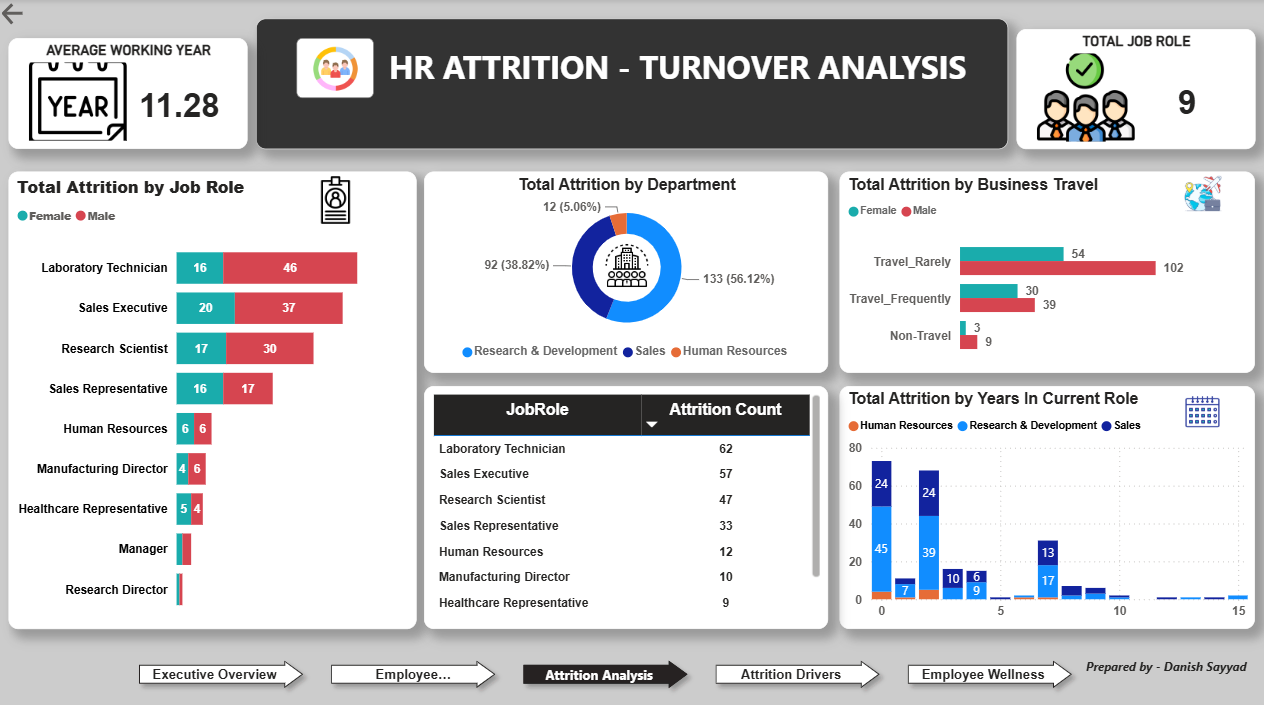

The page's visual inventory and layout, read from the dashboard file:
{"tool":"powerbi","page":{"name":"Attrition Analysis","canvas":[1280,720],"ordinal":2},"visuals":[{"type":"textbox","box":[260.7,19.5,759,132.1],"z":0},{"type":"image","box":[301.3,39.4,77.8,60.5],"z":1000},{"type":"cardVisual","title":"AVERAGE WORKING YEAR","fields":{"Data":["Avg(HR-Employee-Attrition.TotalWorkingYears)"]},"box":[10.6,39.9,241.2,111.7],"z":2000},{"type":"cardVisual","title":"TOTAL JOB ROLE ","fields":{"Data":["Count(HR-Employee-Attrition.JobRole)"]},"box":[1027.7,30.1,241.2,121.5],"z":3000},{"type":"barChart","title":"Total Attrition by Job Role","fields":{"Category":["HR-Employee-Attrition.JobRole"],"Y":["Sum(HR-Employee-Attrition.Attrition Count)"],"Series":["HR-Employee-Attrition.Gender"]},"box":[10.6,174.7,412.3,462],"z":4000},{"type":"image","box":[306.8,172.9,66.5,60.3],"z":5000},{"type":"donutChart","title":"Total Attrition by Department","fields":{"Category":["HR-Employee-Attrition.Department"],"Y":["Sum(HR-Employee-Attrition.Attrition Count)"]},"box":[430,174.7,407.9,203.1],"z":6000},{"type":"image","box":[606.5,240.3,55,56.7],"z":7000},{"type":"clusteredBarChart","title":"Total Attrition by Business Travel","fields":{"Y":["Sum(HR-Employee-Attrition.Attrition Count)"],"Category":["HR-Employee-Attrition.BusinessTravel"],"Series":["HR-Employee-Attrition.Gender"]},"box":[849.5,174.7,419.4,203.1],"z":8000},{"type":"image","box":[1187.3,172.9,58.5,47],"z":9000},{"type":"columnChart","title":"Total Attrition by Years In Current Role","fields":{"Category":["HR-Employee-Attrition.YearsInCurrentRole"],"Y":["Sum(HR-Employee-Attrition.Attrition Count)"],"Series":["HR-Employee-Attrition.Department"]},"box":[849.5,391,419.4,245.6],"z":10000},{"type":"image","box":[1180.2,391,72.7,49.7],"z":11000},{"type":"tableEx","fields":{"Values":["HR-Employee-Attrition.JobRole","HR-Employee-Attrition.Attrition Count"]},"box":[430,391,407.9,245.6],"z":12000},{"type":"pageNavigator","box":[133.3,658.7,960,46.9],"z":13000},{"type":"actionButton","box":[0,0,69.2,30.1],"z":14000},{"type":"textbox","box":[1093.3,658.7,175.6,45.4],"z":14001}]}

Visuals, with their boxes in screenshot pixels (x1, y1, x2, y2), scaled from the page's 1280x720 canvas onto the 1264x705 screenshot:
textbox: 257 19 1007 148
image: 298 39 374 98
"AVERAGE WORKING YEAR" cardVisual: 10 39 249 148
"TOTAL JOB ROLE " cardVisual: 1015 29 1253 148
"Total Attrition by Job Role" barChart: 10 171 418 623
image: 303 169 369 228
"Total Attrition by Department" donutChart: 425 171 827 370
image: 599 235 653 291
"Total Attrition by Business Travel" clusteredBarChart: 839 171 1253 370
image: 1172 169 1230 215
"Total Attrition by Years In Current Role" columnChart: 839 383 1253 623
image: 1165 383 1237 432
tableEx - HR-Employee-Attrition.JobRole x HR-Employee-Attrition.Attrition Count: 425 383 827 623
pageNavigator: 132 645 1080 691
actionButton: 0 0 68 29
textbox: 1080 645 1253 689
